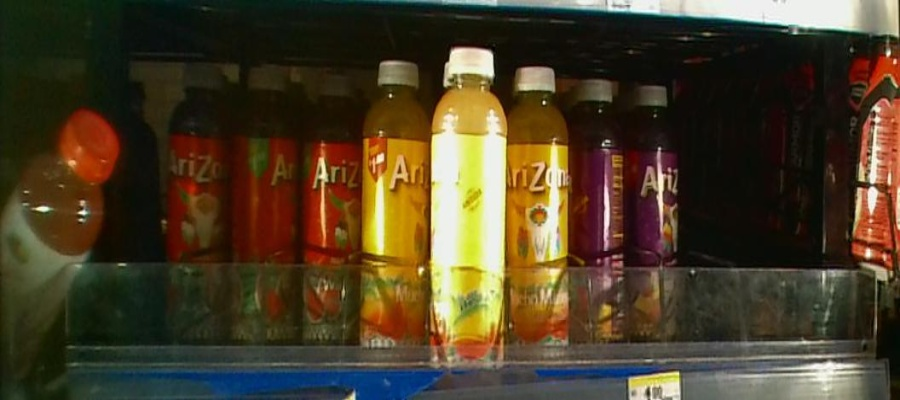bottle: (428, 38, 506, 359), (361, 52, 427, 363), (229, 54, 294, 353), (162, 50, 226, 351), (506, 47, 568, 351), (297, 59, 357, 356), (569, 71, 627, 353), (626, 75, 679, 352)
